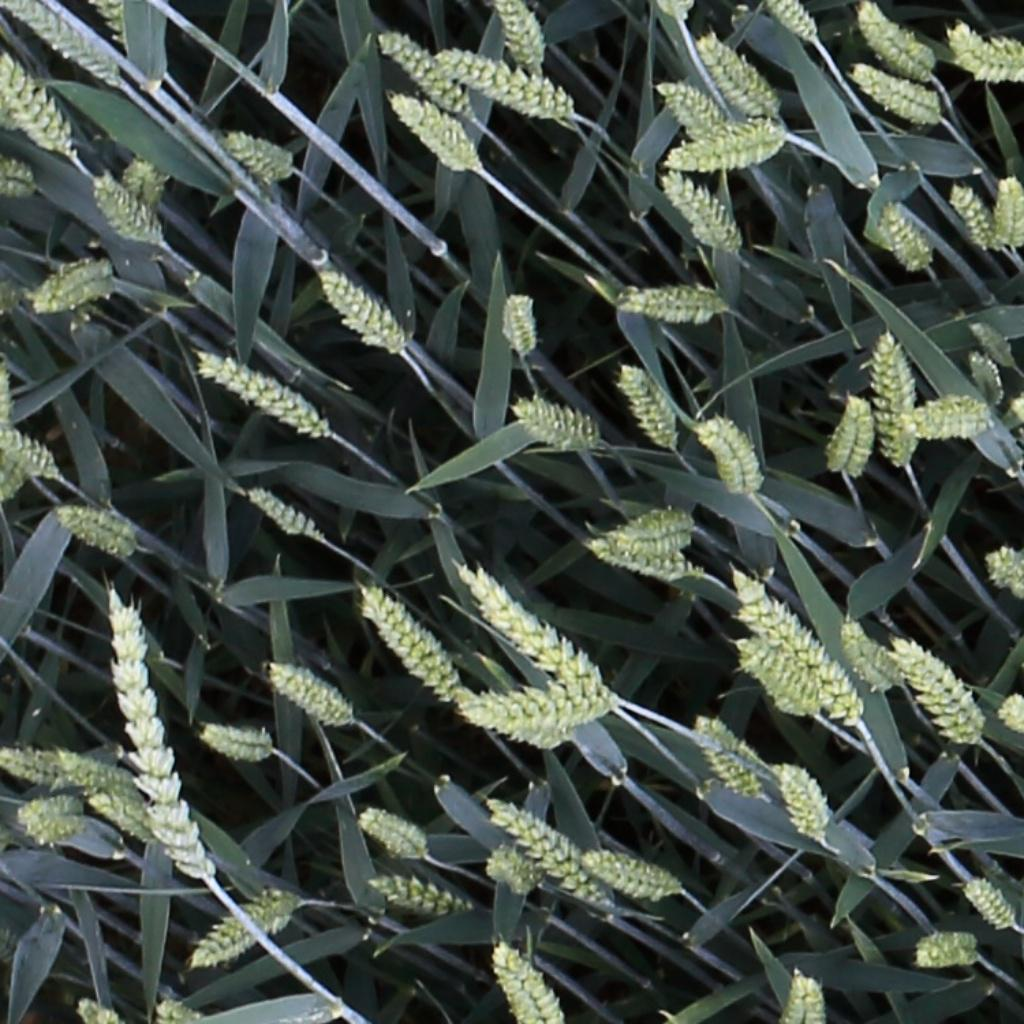0-0: (103, 586, 216, 880), (458, 566, 599, 704), (733, 575, 862, 719), (356, 584, 462, 709), (484, 800, 604, 906), (195, 352, 324, 436), (434, 49, 573, 124), (4, 0, 122, 84), (891, 637, 983, 744), (189, 886, 307, 968), (375, 28, 472, 124), (316, 270, 409, 360), (0, 746, 140, 804), (387, 91, 479, 176), (0, 49, 73, 154), (458, 685, 618, 731), (694, 32, 779, 118), (663, 115, 783, 172), (659, 167, 740, 249), (873, 327, 920, 468), (695, 412, 763, 501), (853, 4, 928, 83), (491, 939, 562, 1022), (614, 360, 677, 453), (735, 641, 817, 711), (693, 720, 761, 804), (263, 663, 349, 727), (850, 64, 940, 121), (30, 255, 114, 316), (768, 763, 828, 846), (511, 395, 601, 450), (821, 391, 873, 485), (621, 281, 728, 325), (88, 177, 159, 243), (585, 539, 699, 580), (839, 622, 905, 692), (906, 397, 1000, 444), (877, 195, 932, 275), (54, 506, 138, 556), (604, 506, 696, 551), (948, 25, 1024, 79), (584, 854, 677, 898), (655, 79, 723, 139), (356, 806, 426, 864), (946, 174, 998, 251), (244, 487, 319, 540), (365, 875, 468, 913), (492, 0, 543, 76), (81, 794, 154, 846), (221, 131, 294, 179), (483, 720, 578, 756), (200, 722, 275, 762), (962, 879, 1017, 933), (965, 315, 1018, 371), (0, 428, 58, 479), (963, 341, 1004, 413), (778, 966, 827, 1024), (13, 808, 84, 845), (995, 169, 1024, 251), (502, 288, 535, 360), (489, 842, 543, 886), (767, 0, 819, 45), (121, 151, 158, 212), (985, 548, 1024, 599), (88, 1, 128, 50), (918, 937, 979, 967), (0, 155, 33, 201), (72, 995, 114, 1024), (151, 999, 193, 1024), (998, 699, 1024, 733), (1008, 395, 1024, 441)
